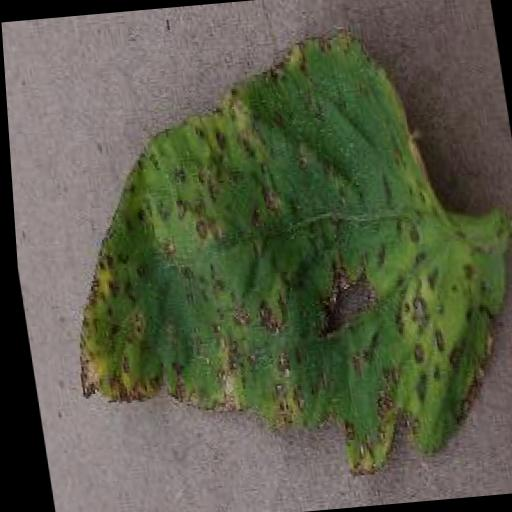Bacterial Spot: (19, 16, 512, 506)
